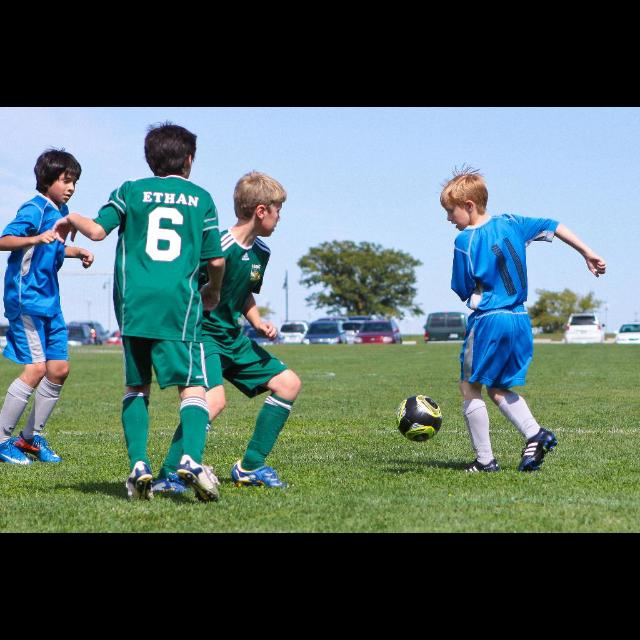Football: (393, 395, 443, 443)
